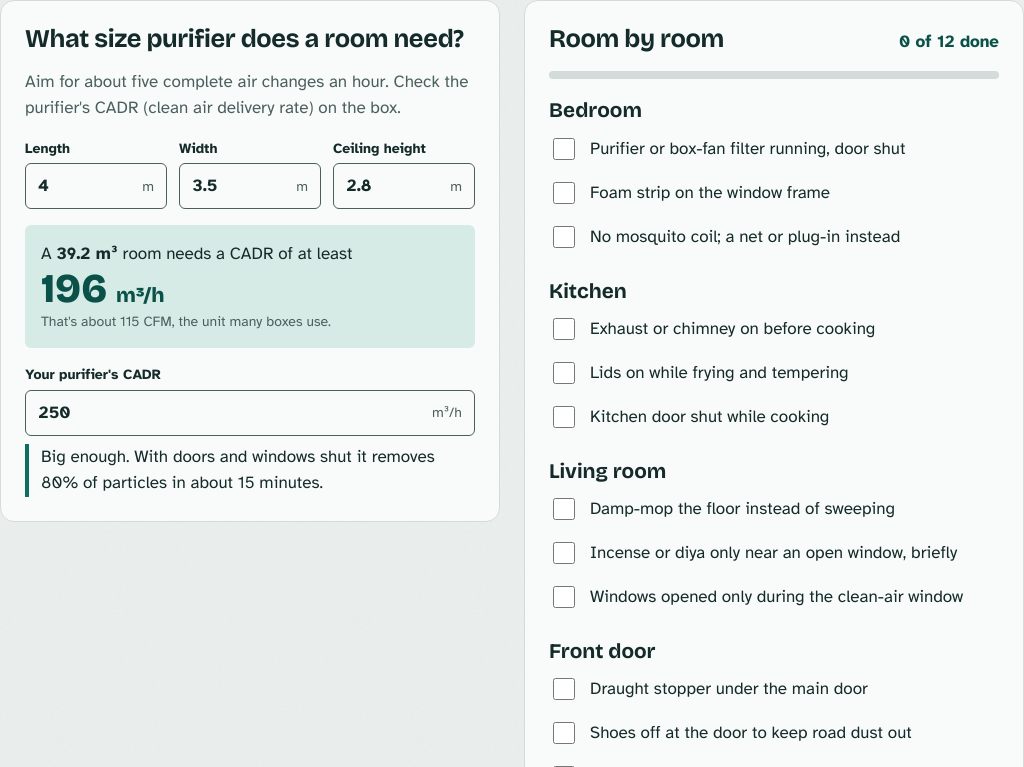
Scenario: HomeAir › is accessible and sizes a purifier from room dimensions
Expected: the text "196" is shown, [41, 264, 107, 313]
Replace the text in the number field labelled "Length" with "8" at (78, 186), box [26, 164, 130, 208]
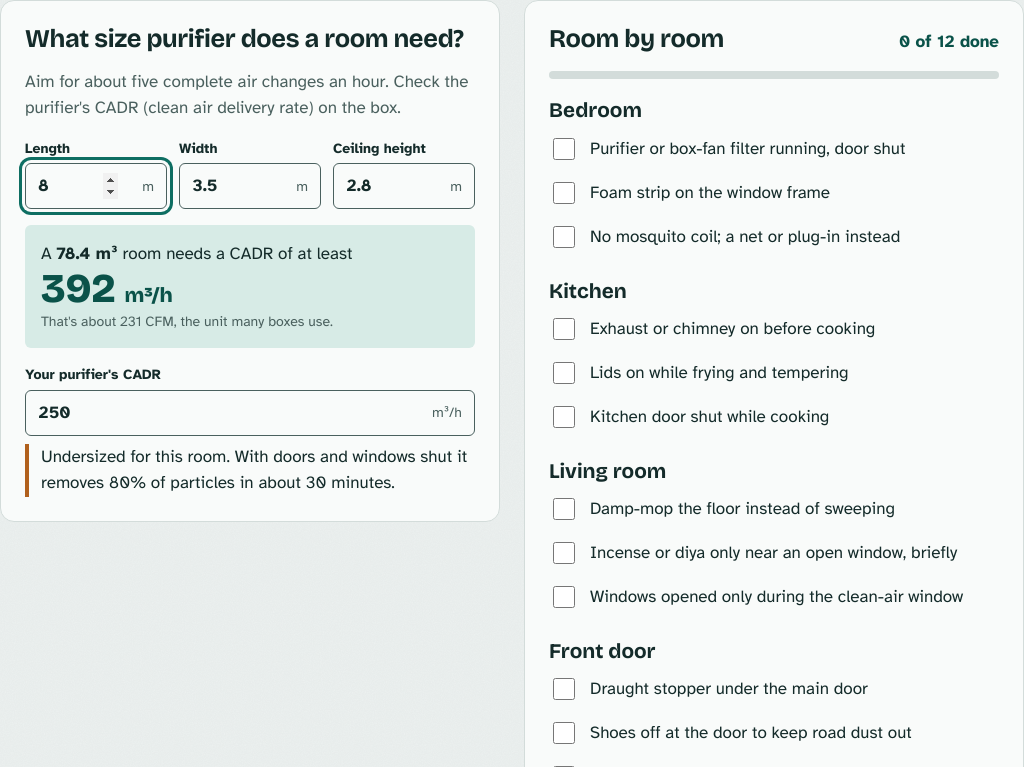
Expected: the text "392" is shown, [41, 264, 116, 313]
